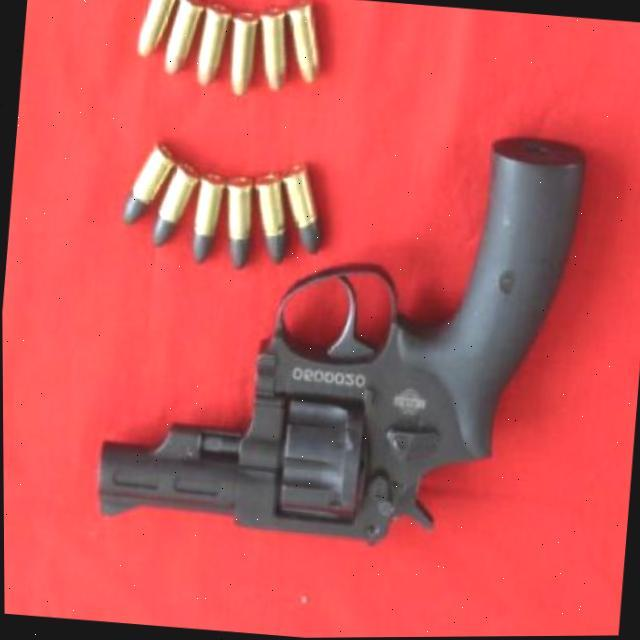gun: (89, 103, 602, 562)
